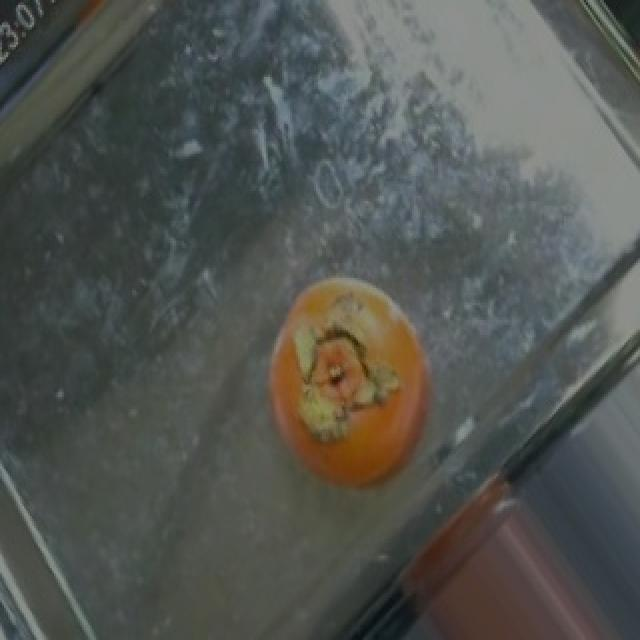Fruit: (246, 263, 460, 511)
